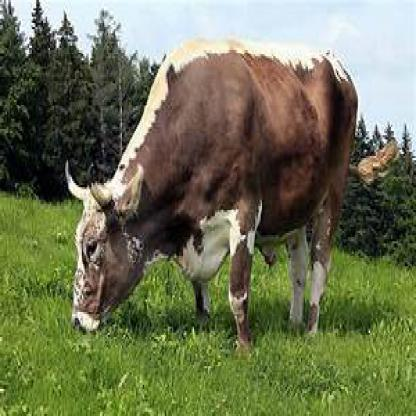cow: (65, 48, 358, 351)
